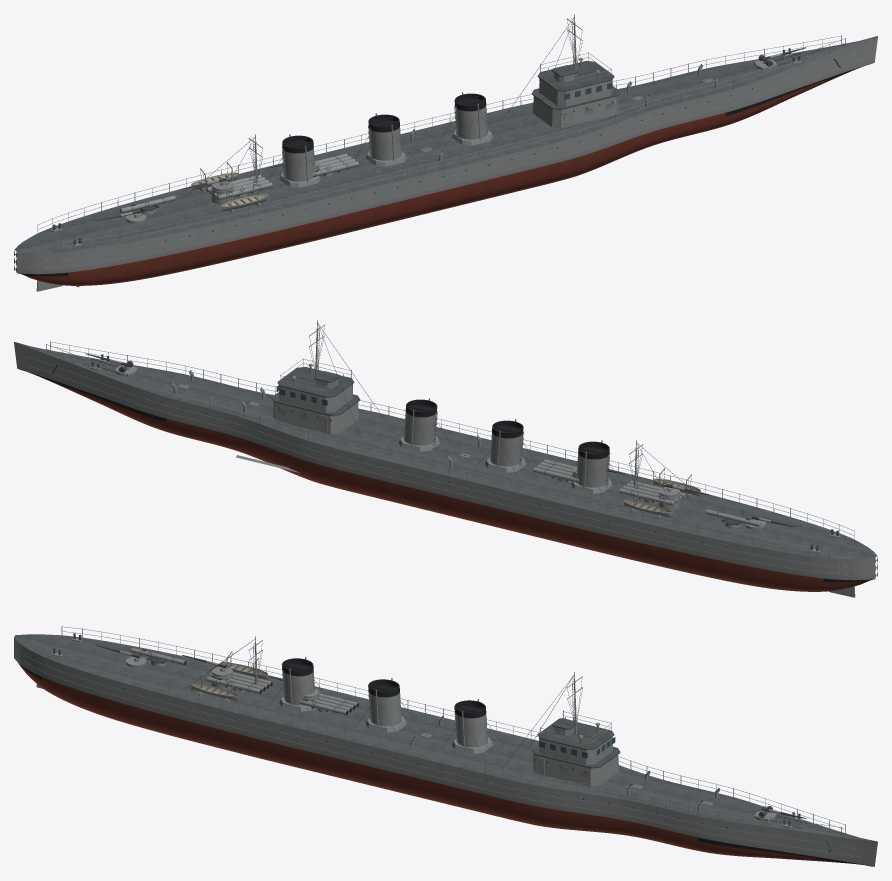
Rendered from novik_series.glb.
3 views of the same model, one above another, from view 1: azimuth 30°, elevation 25°; view 2: azimuth 150°, elevation 25°; view 3: azimuth 330°, elevation 25° (orthographic).
Parts seen in each view (by area): view 1: Novik type destroyer; view 2: Novik type destroyer; view 3: Novik type destroyer.
Part boxes in pixels (left/top/right/bottom): Novik type destroyer: left=14, top=14, right=877, bottom=291; Novik type destroyer: left=14, top=320, right=877, bottom=597; Novik type destroyer: left=14, top=626, right=877, bottom=866.
Size of the model in its own units: 98 by 16.09 by 9.43.
Materials: 9 (8 with a texture image).
